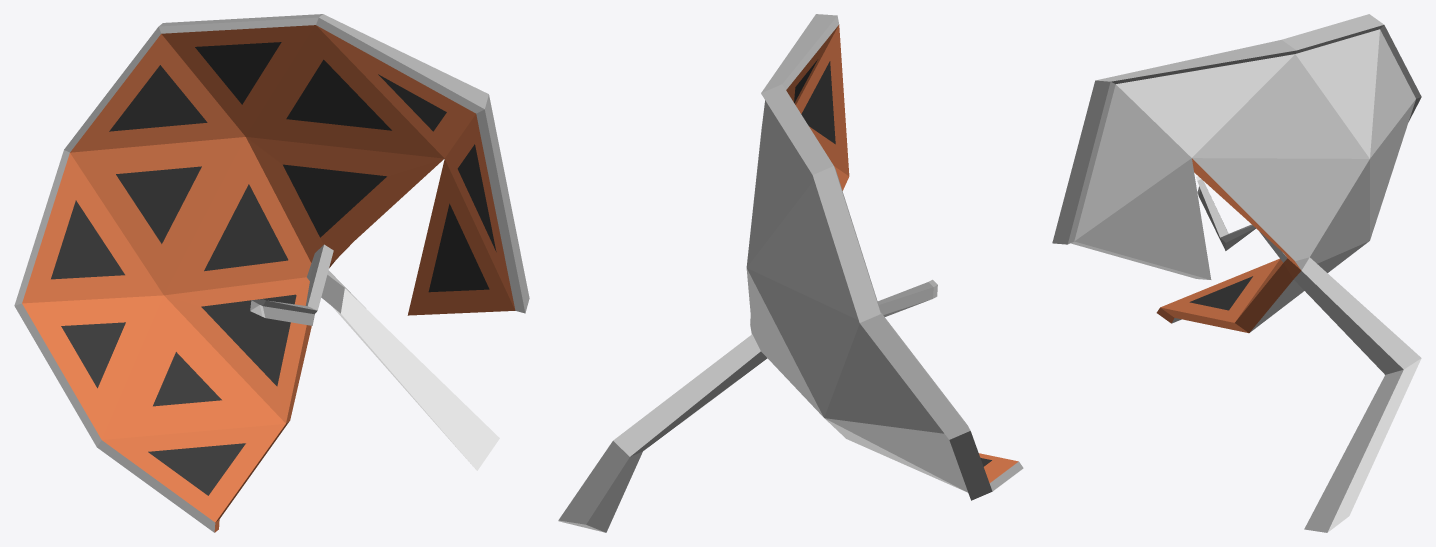
The model's file is SatelliteDish.fbx.
The picture shows the model from 3 angles, left to right: view 1: azimuth 30°, elevation 25°; view 2: azimuth 150°, elevation 25°; view 3: azimuth 270°, elevation 25°; orthographic projection. The views are drawn at different scales.
Visible parts, largest first — view 1: Satellite; view 2: Satellite; view 3: Satellite.
Part boxes in pixels (x1,y1,x2,y2): Satellite: [14, 14, 529, 532]; Satellite: [558, 14, 1023, 532]; Satellite: [1052, 14, 1421, 532].
Bounding box in the file's own units: 91.41 × 95.92 × 76.49.
